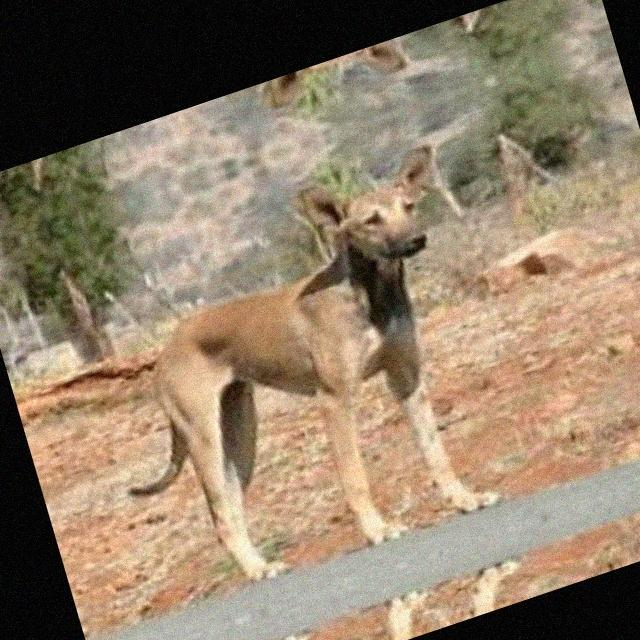dog: (87, 135, 559, 620), (56, 29, 432, 184), (202, 527, 584, 640)
